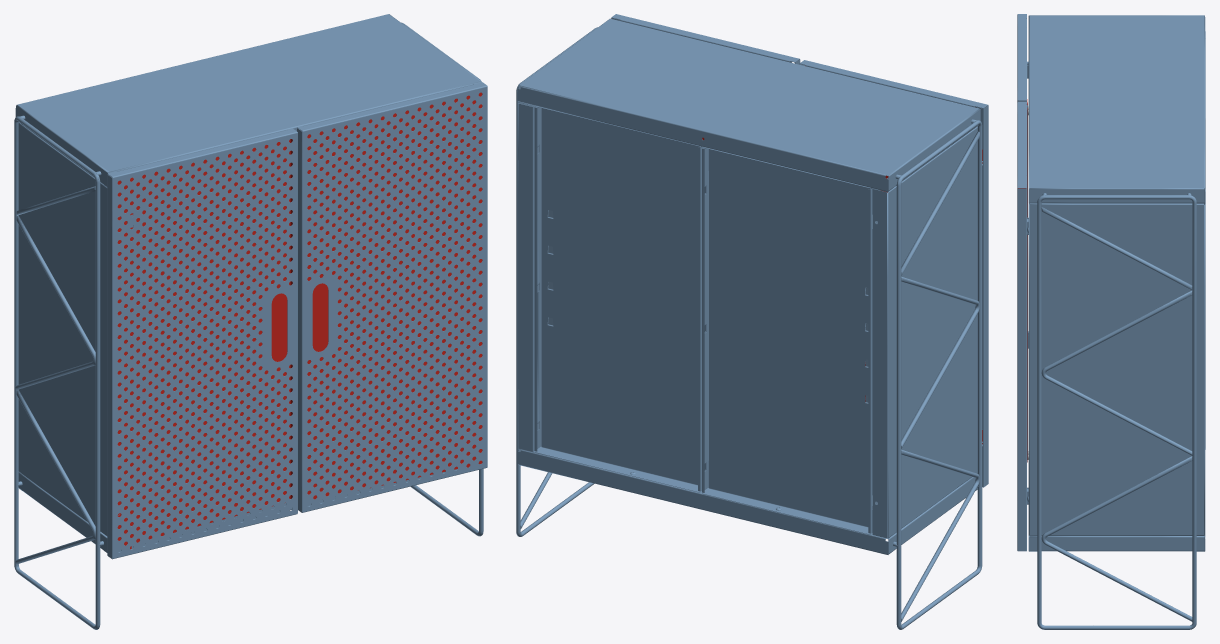
Rendered from fleysen-1311.glb.
3 views of the same model, side by side, from view 1: azimuth 30°, elevation 25°; view 2: azimuth 150°, elevation 25°; view 3: azimuth 270°, elevation 25° (orthographic). The views are drawn at different scales.
Parts seen in each view (by area): view 1: 1311.IGS (C-08131134_vychozi JP.IGS).003, 1311.IGS (C-08131034.IGS#1).001, 1311.IGS (C-08131131.IGS).003, 1311.IGS (C-08131135.IGS).003, 1311.IGS (C-08131135.IGS).002, 1311.IGS (C-BOK D - SKR Velka.IGS).001, G-Object.001, 1311.IGS (C-08131035.IGS#1).001, 1311.IGS (C-BOK D - SKR Velka-1.IGS).001; view 2: 1311.IGS (C-08131137.IGS).003, 1311.IGS (C-08131137.IGS).002, 1311.IGS (C-08131034.IGS#1).001, 1311.IGS (C-08131131.IGS).003, 1311.IGS (C-08131035.IGS#1).001, 1311.IGS (C-BOK D - SKR Velka.IGS).001, 1311.IGS (C-08131131.IGS).002, 1311.IGS (C-08131134_vychozi JP.IGS).003, G-Object.001, 1311.IGS (C-BOK D - SKR Velka-1.IGS).001; view 3: 1311.IGS (C-08131131.IGS).002, 1311.IGS (C-08131034.IGS#1).001, 1311.IGS (C-BOK D - SKR Velka-1.IGS).001, 1311.IGS (C-08131134_vychozi JP.IGS).003, G-Object.001, 1311.IGS (C-08131035.IGS#1).001, 1311.IGS (C-08131137.IGS).003, 1311.IGS (C-08131135.IGS).003.
Boxes of the visible parts, bbox=[...] form: 1311.IGS (C-08131134_vychozi JP.IGS).003: bbox=[107, 82, 487, 559]; 1311.IGS (C-08131034.IGS#1).001: bbox=[15, 14, 481, 186]; 1311.IGS (C-08131131.IGS).003: bbox=[18, 123, 107, 536]; 1311.IGS (C-08131135.IGS).003: bbox=[307, 92, 482, 499]; 1311.IGS (C-08131135.IGS).002: bbox=[117, 139, 292, 549]; 1311.IGS (C-BOK D - SKR Velka.IGS).001: bbox=[14, 116, 100, 629]; G-Object.001: bbox=[15, 186, 95, 564]; 1311.IGS (C-08131035.IGS#1).001: bbox=[18, 472, 292, 552]; 1311.IGS (C-BOK D - SKR Velka-1.IGS).001: bbox=[401, 22, 483, 536]; 1311.IGS (C-08131137.IGS).003: bbox=[702, 146, 872, 534]; 1311.IGS (C-08131137.IGS).002: bbox=[534, 106, 706, 492]; 1311.IGS (C-08131034.IGS#1).001: bbox=[517, 18, 980, 191]; 1311.IGS (C-08131131.IGS).003: bbox=[872, 126, 977, 538]; 1311.IGS (C-08131035.IGS#1).001: bbox=[517, 446, 977, 554]; 1311.IGS (C-BOK D - SKR Velka.IGS).001: bbox=[896, 120, 982, 629]; 1311.IGS (C-08131131.IGS).002: bbox=[518, 102, 548, 451]; 1311.IGS (C-08131134_vychozi JP.IGS).003: bbox=[611, 14, 988, 487]; G-Object.001: bbox=[520, 131, 979, 621]; 1311.IGS (C-BOK D - SKR Velka-1.IGS).001: bbox=[516, 27, 597, 536]; 1311.IGS (C-08131131.IGS).002: bbox=[1028, 203, 1205, 535]; 1311.IGS (C-08131034.IGS#1).001: bbox=[1028, 15, 1205, 203]; 1311.IGS (C-BOK D - SKR Velka-1.IGS).001: bbox=[1037, 195, 1196, 629]; 1311.IGS (C-08131134_vychozi JP.IGS).003: bbox=[1017, 14, 1027, 551]; G-Object.001: bbox=[1041, 207, 1192, 621]; 1311.IGS (C-08131035.IGS#1).001: bbox=[1028, 535, 1205, 551]; 1311.IGS (C-08131137.IGS).003: bbox=[1205, 39, 1205, 449]; 1311.IGS (C-08131135.IGS).003: bbox=[1018, 108, 1027, 462].
Bounding box in the file's own units: 0.7852 × 0.8947 × 0.3479.
